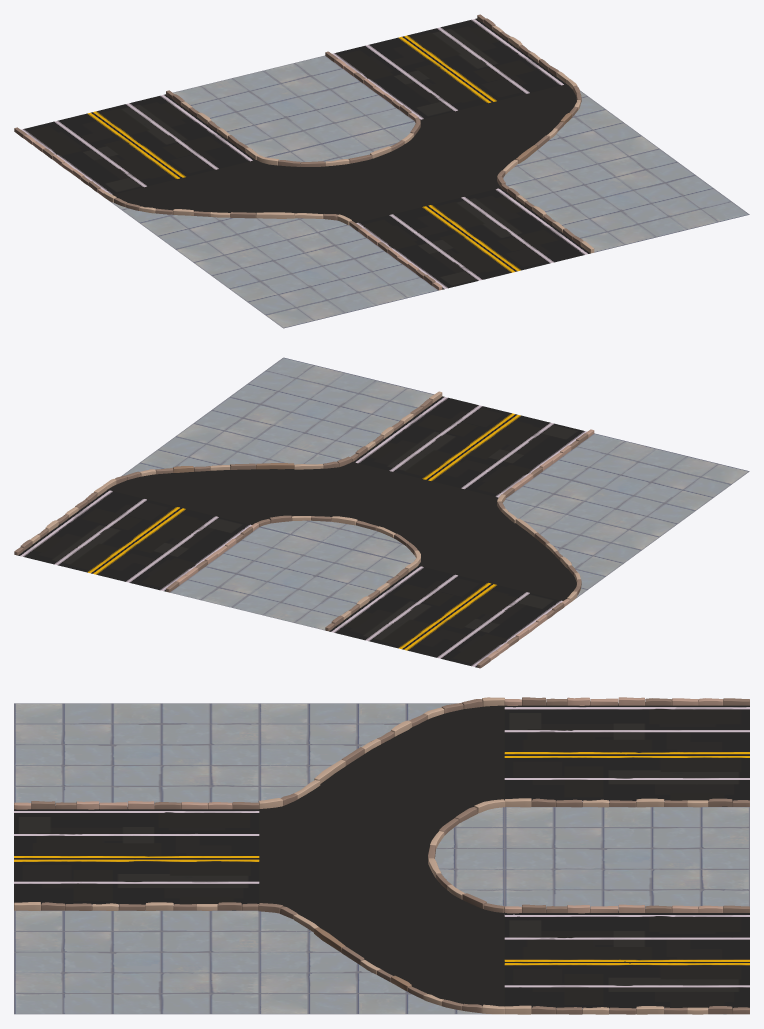
Rendered from CityRoad_Y_cross.fbx.
The picture shows the model from 3 angles, top to bottom: view 1: azimuth 30°, elevation 25°; view 2: azimuth 150°, elevation 25°; view 3: azimuth 270°, elevation 25°; orthographic projection. The views are drawn at different scales.
Parts seen in each view (by area): view 1: CityRoad_Y_cross_mesh; view 2: CityRoad_Y_cross_mesh; view 3: CityRoad_Y_cross_mesh.
Part boxes in pixels (x1,y1,x2,y2): CityRoad_Y_cross_mesh: (14, 14, 749, 328); CityRoad_Y_cross_mesh: (14, 357, 749, 668); CityRoad_Y_cross_mesh: (14, 697, 749, 1014).
Bounding box in the file's own units: 3008 × 28.55 × 3000.
